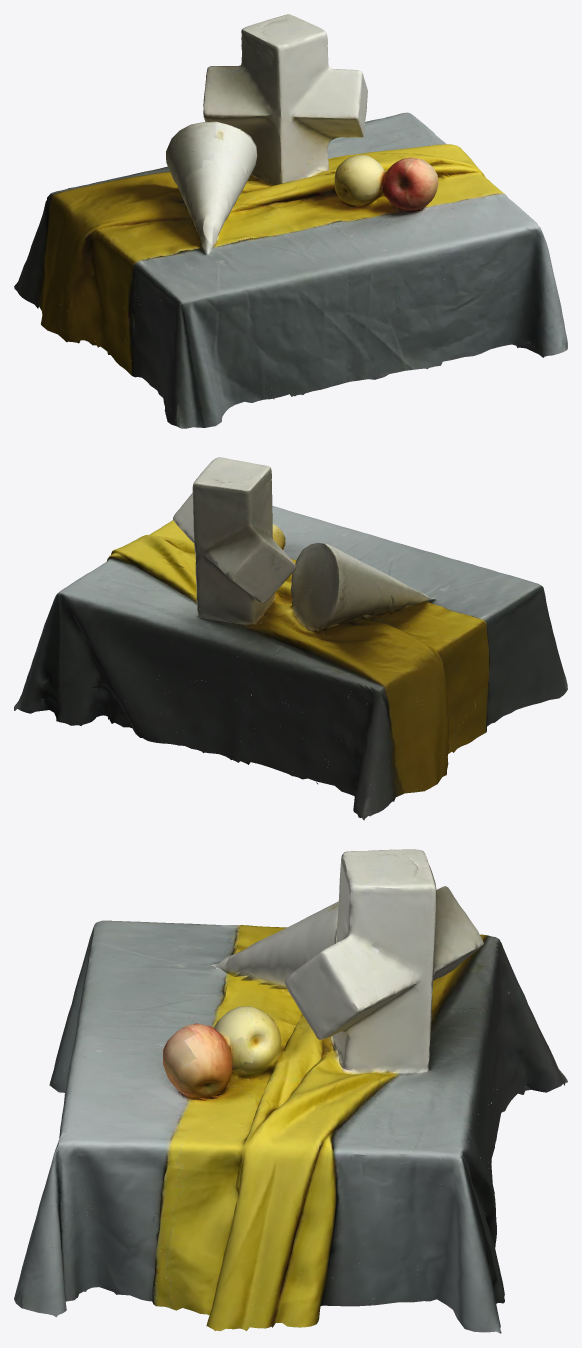
Rendered from 静物_其它_几何体水果组合01_opt.glb.
The picture shows the model from 3 angles, top to bottom: view 1: azimuth 30°, elevation 25°; view 2: azimuth 150°, elevation 25°; view 3: azimuth 270°, elevation 25°; orthographic projection. The views are drawn at different scales.
Parts seen in each view (by area): view 1: defaultMat, defaultMat_1; view 2: defaultMat, defaultMat_1; view 3: defaultMat, defaultMat_1.
Boxes of the visible parts, <box> form: defaultMat: <box>14,14,567,428</box>; defaultMat_1: <box>26,15,551,421</box>; defaultMat: <box>14,457,567,820</box>; defaultMat_1: <box>25,460,560,814</box>; defaultMat: <box>14,849,567,1333</box>; defaultMat_1: <box>39,850,548,1331</box>.
Bounding box in the file's own units: 0.4965 × 0.3 × 0.4307.
1 material, 1 textured.
